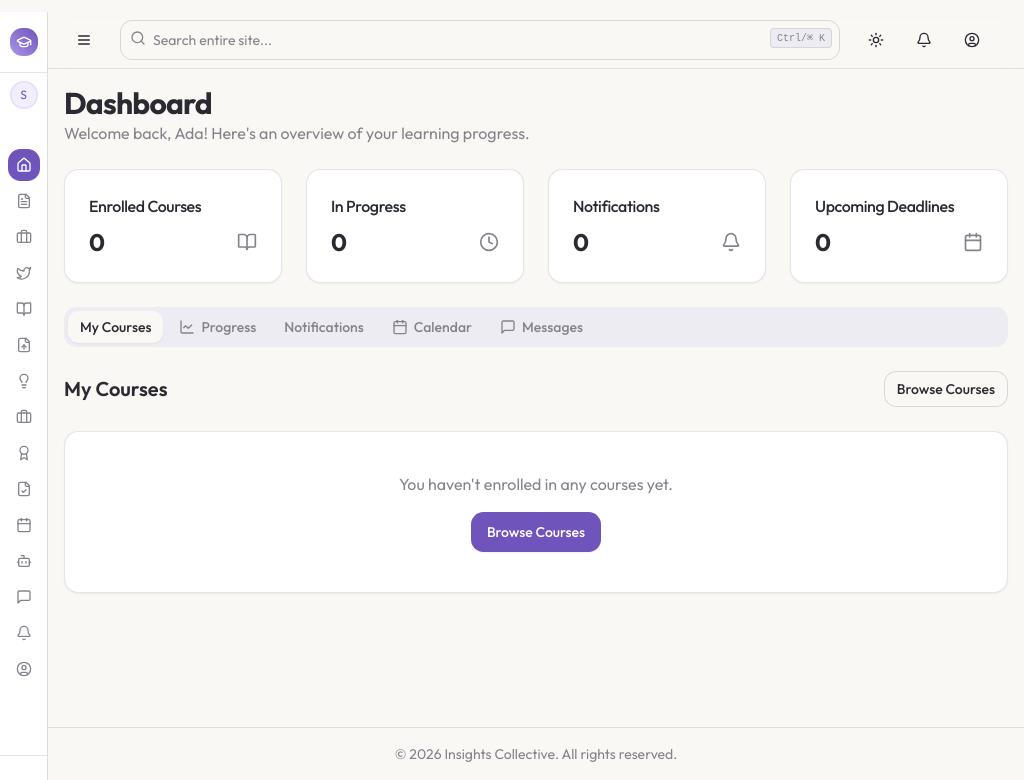
Dashboard › shows an error state in the notifications tab when the fetch fails
Click the tab "Notifications" at [324, 327], box x1=272 y1=311 x2=376 y2=343
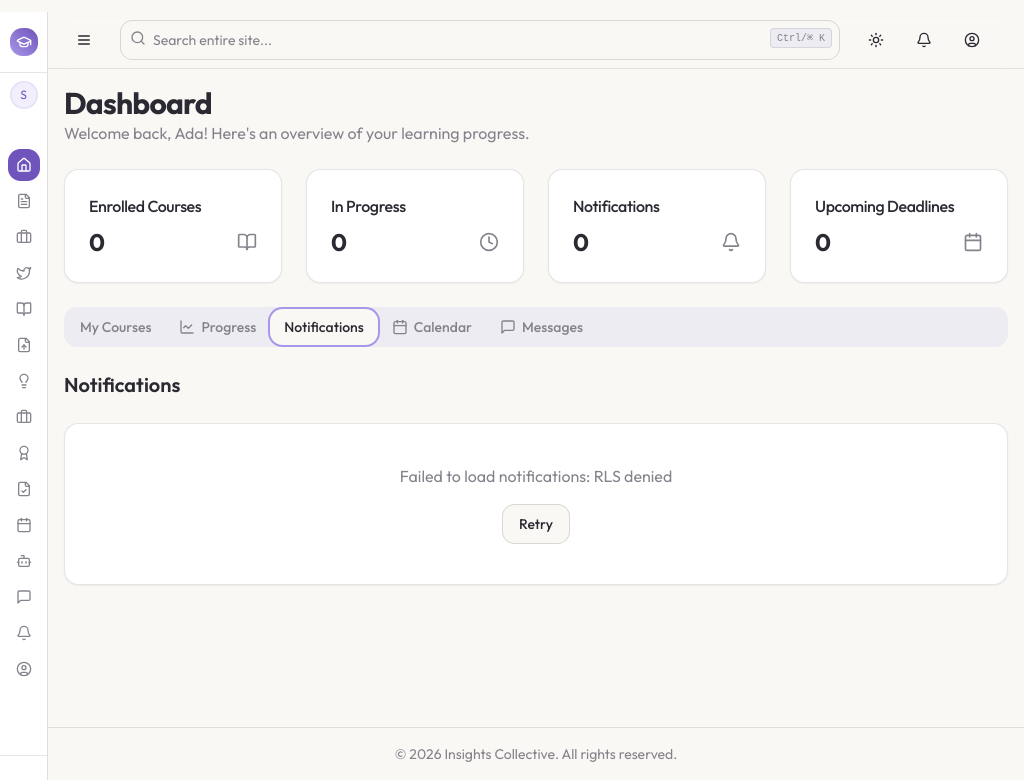
Expected: the text "Failed to load notifications: RLS denied" is shown, x1=400 y1=466 x2=672 y2=486
Expected: the button "Retry" is shown, x1=502 y1=504 x2=570 y2=544
